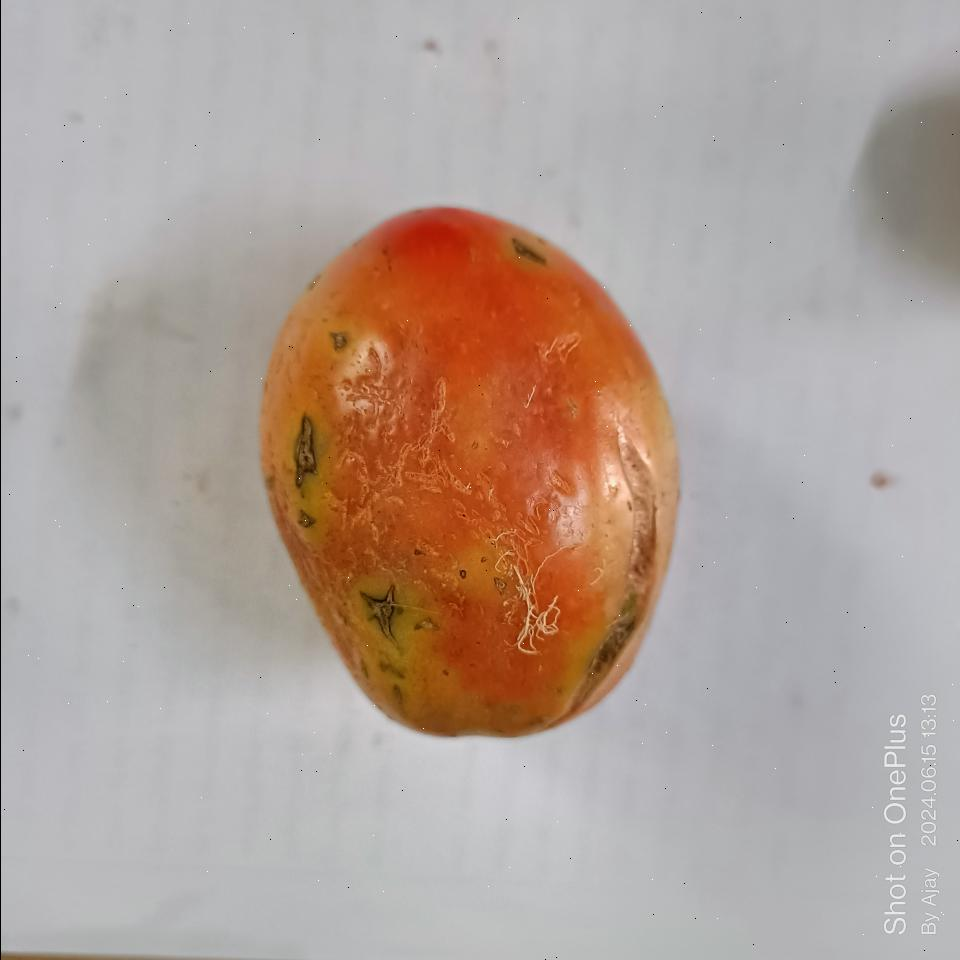Bacterial_Spot: (277, 412, 323, 540), (351, 576, 397, 642), (498, 233, 552, 273)
